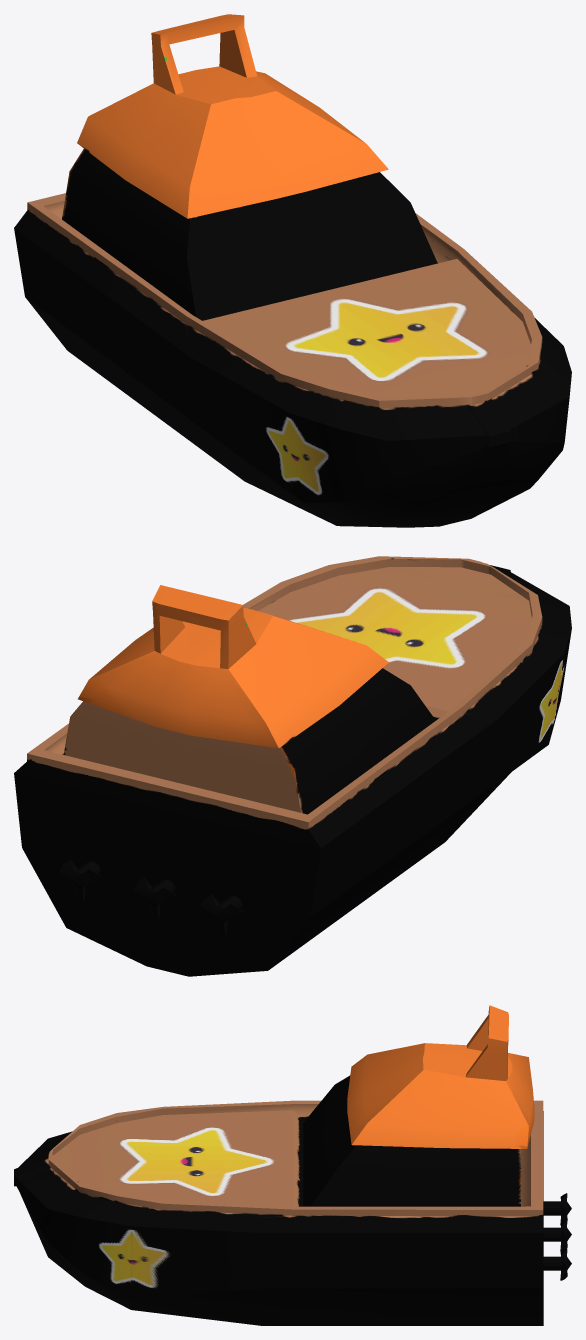
File: boat.fbx
3 views of the same model, one above another, from view 1: azimuth 30°, elevation 25°; view 2: azimuth 150°, elevation 25°; view 3: azimuth 270°, elevation 25° (orthographic). The views are drawn at different scales.
Parts seen in each view (by area): view 1: node_id4; view 2: node_id4, node_id6, node_id8, node_id10; view 3: node_id4, node_id6, node_id8, node_id10.
Boxes of the visible parts, x1,y1,x2,y2 form: node_id4: [14, 14, 571, 527]; node_id4: [14, 556, 571, 976]; node_id6: [59, 859, 101, 900]; node_id8: [134, 877, 176, 918]; node_id10: [201, 894, 243, 934]; node_id4: [14, 1005, 543, 1325]; node_id6: [543, 1248, 571, 1280]; node_id8: [543, 1219, 571, 1251]; node_id10: [543, 1193, 571, 1225].
Size of the model in its own units: 0.4681 by 0.512 by 0.9235.
4 materials, 4 textured.
